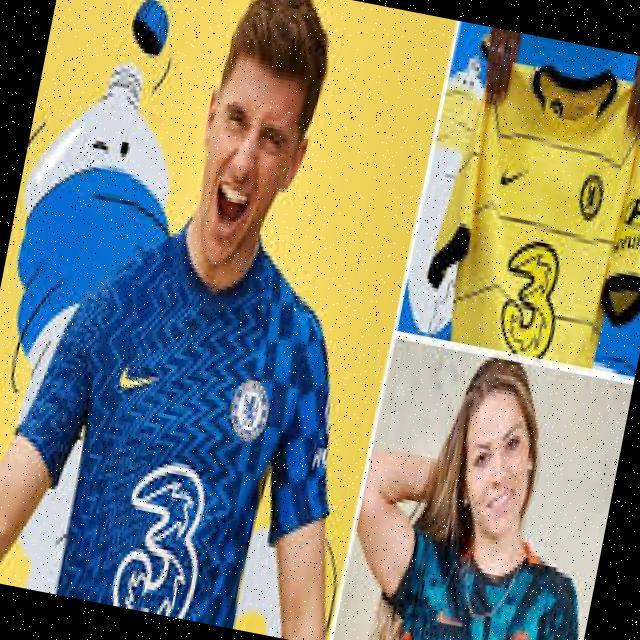Nike: (113, 358, 161, 401), (493, 163, 533, 199)
